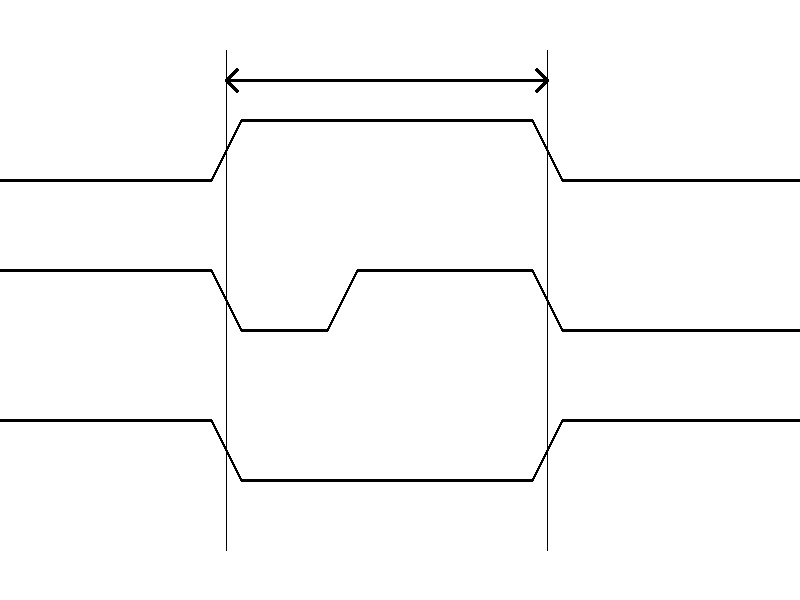double_arrow: (226, 65, 547, 95)
